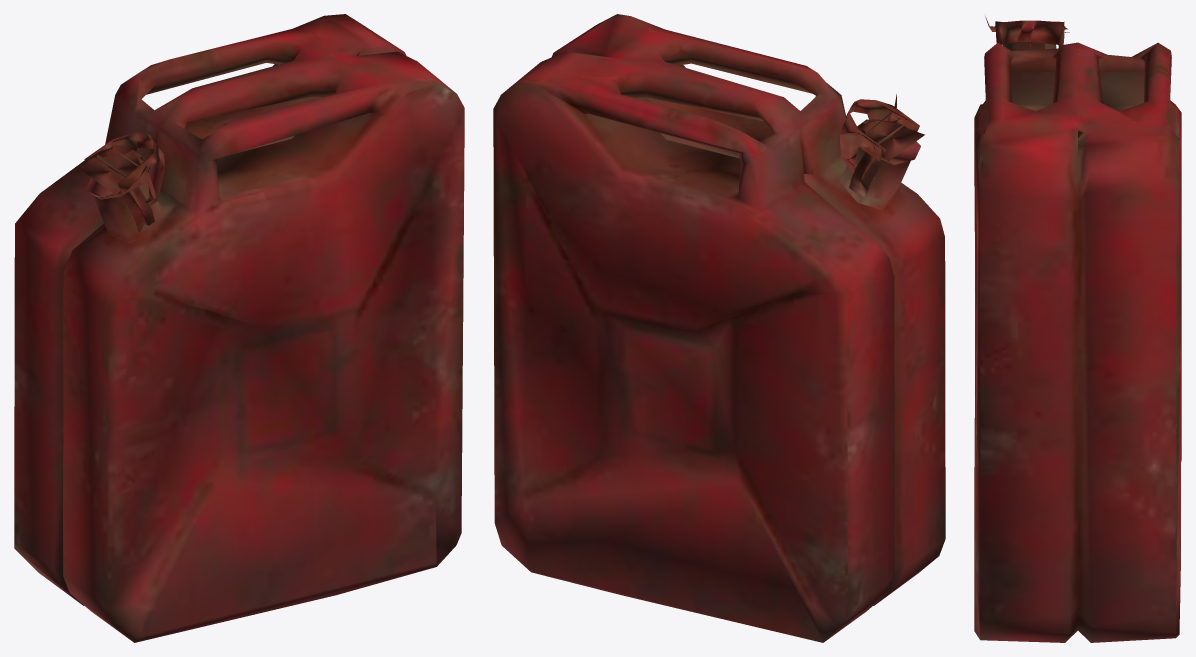
File: metal_jerrycan.glb
3 views of the same model, side by side, from view 1: azimuth 30°, elevation 25°; view 2: azimuth 150°, elevation 25°; view 3: azimuth 270°, elevation 25° (orthographic). The views are drawn at different scales.
Parts seen in each view (by area): view 1: metal_jerrycan; view 2: metal_jerrycan; view 3: metal_jerrycan.
Boxes of the visible parts, x1=… form: metal_jerrycan: x1=14, y1=14, x2=464, y2=642; metal_jerrycan: x1=493, y1=14, x2=945, y2=642; metal_jerrycan: x1=974, y1=16, x2=1181, y2=642.
Size of the model in its own units: 0.3481 by 0.4536 by 0.1692.
Materials: 1 (1 with a texture image).
